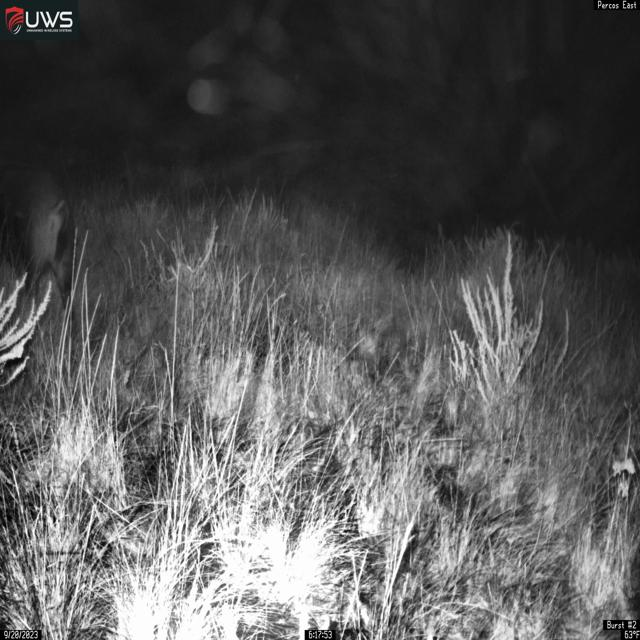pig: (0, 161, 78, 339)
